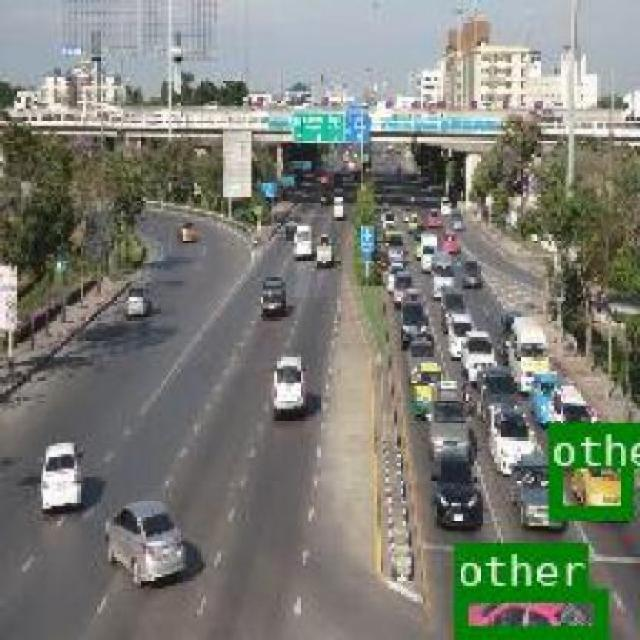other: (546, 420, 632, 517), (452, 586, 603, 634)
